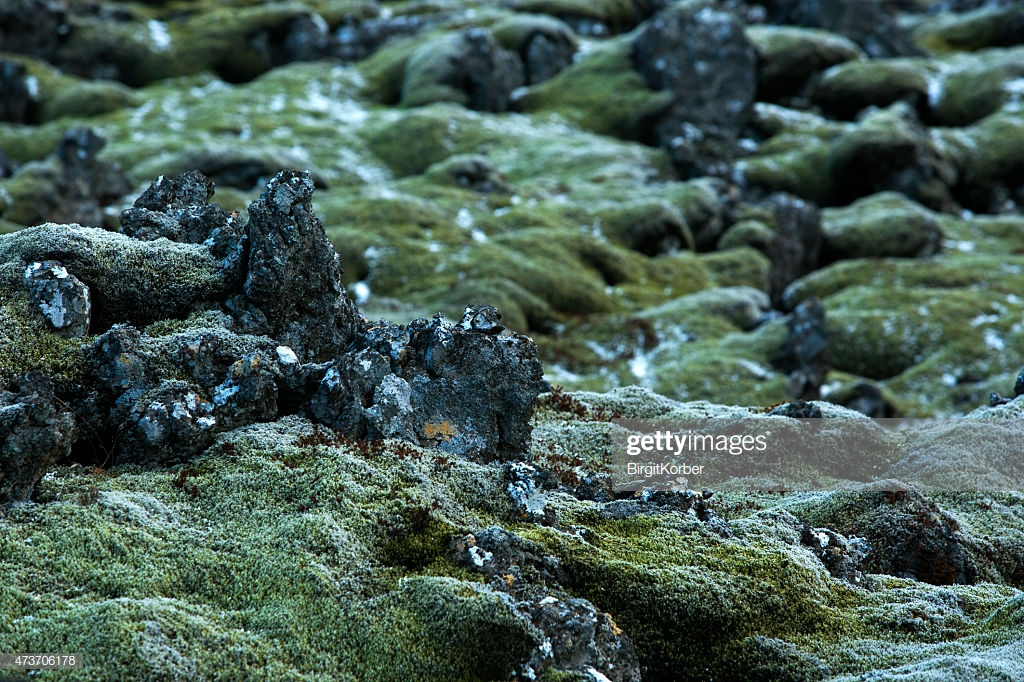volcanic_rock: (8, 173, 573, 486), (413, 468, 973, 678), (710, 189, 960, 428), (618, 10, 755, 242), (371, 21, 581, 115)
